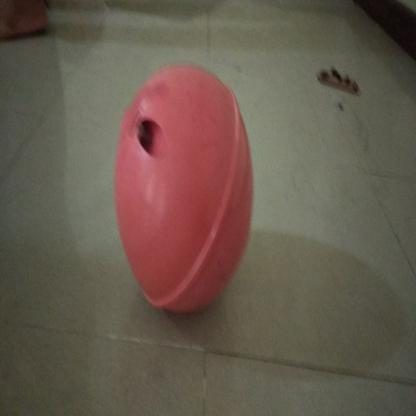red_buoy: (110, 57, 256, 320)
